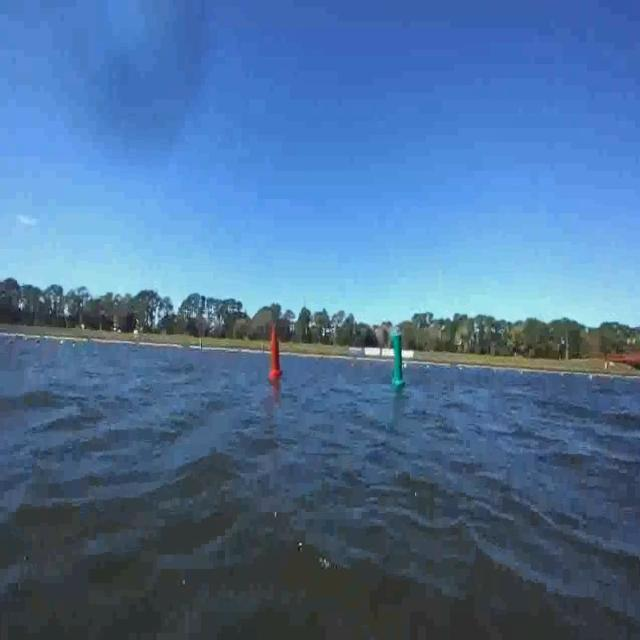green-column-buoy: (390, 334, 406, 389)
red-column-buoy: (269, 325, 284, 380)
